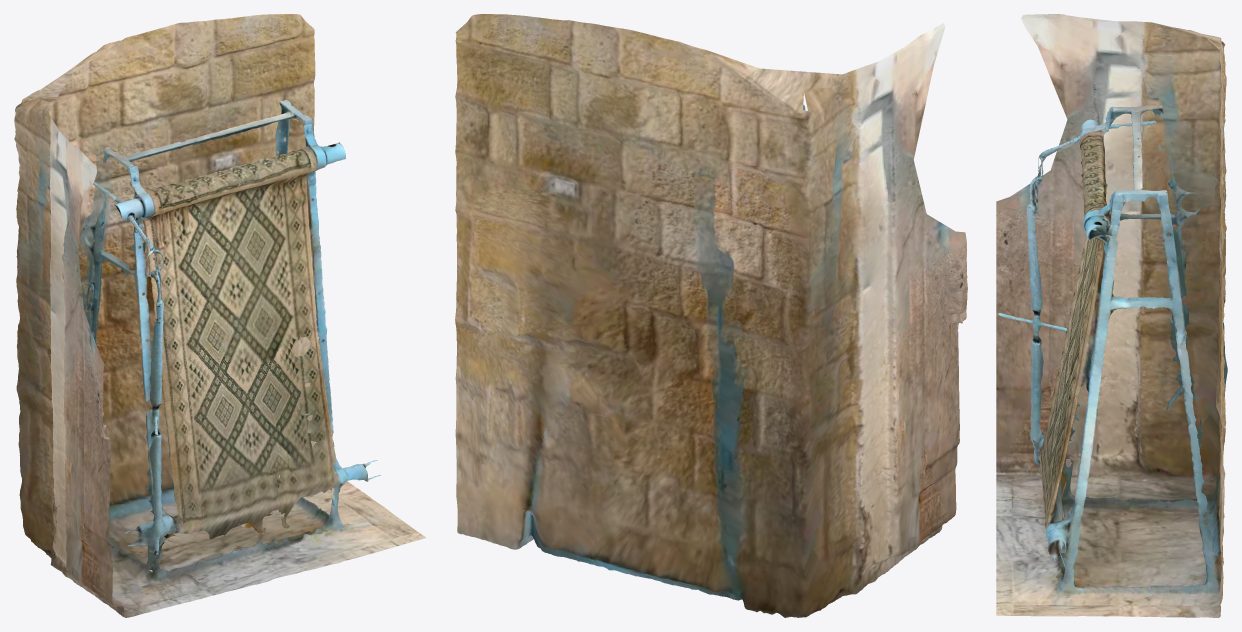
File: traditional-loom-with-woven-carpet-medina-of.glb
3 views of the same model, side by side, from view 1: azimuth 30°, elevation 25°; view 2: azimuth 150°, elevation 25°; view 3: azimuth 270°, elevation 25° (orthographic). The views are drawn at different scales.
Parts seen in each view (by area): view 1: Object_2; view 2: Object_2; view 3: Object_2.
Part boxes in pixels (x1,y1,x2,y2): Object_2: (14,14,426,617); Object_2: (455,14,967,617); Object_2: (996,14,1227,617).
Size of the model in its own units: 1.43 by 2 by 0.8744.
Materials: 1 (1 with a texture image).
